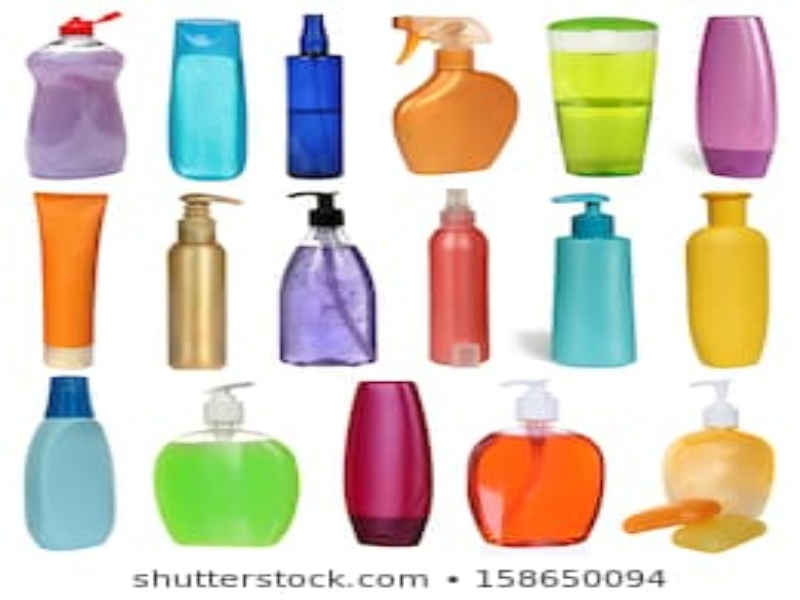detergent-bottle: (389, 10, 522, 174), (24, 5, 145, 180)
shampoo-bottle: (142, 380, 302, 549), (468, 377, 608, 545), (279, 188, 390, 366), (544, 15, 663, 179), (23, 376, 125, 552), (544, 192, 644, 369), (662, 376, 776, 522), (684, 189, 775, 369), (164, 192, 251, 371), (345, 378, 436, 549), (699, 13, 787, 178), (30, 190, 110, 371), (278, 12, 360, 183), (171, 18, 253, 182)
